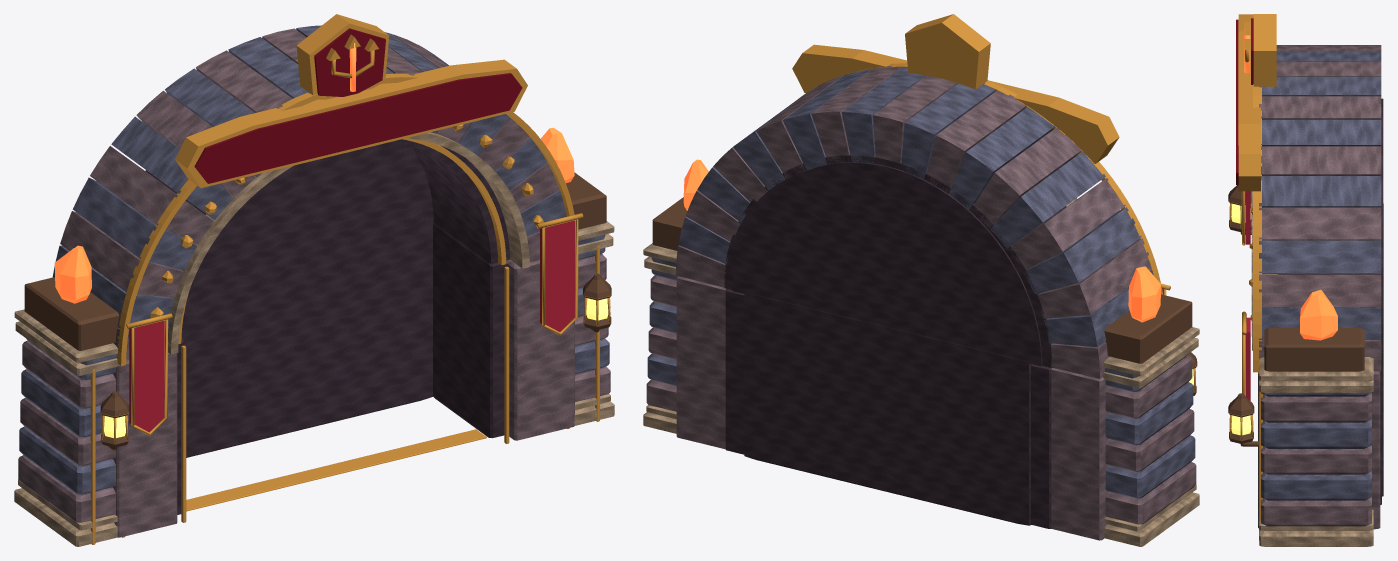
File: red-devils-gateway.glb
The picture shows the model from 3 angles, left to right: view 1: azimuth 30°, elevation 25°; view 2: azimuth 150°, elevation 25°; view 3: azimuth 270°, elevation 25°; orthographic projection. The views are drawn at different scales.
Parts seen in each view (by area): view 1: red-devils-gateway · Charred vault, red-devils-gateway · Smoky rose ashlar, red-devils-gateway · Hammered brass, red-devils-gateway · Basalt blue ashlar, red-devils-gateway · Oxblood enamel, red-devils-gateway · Carved sandstone, red-devils-gateway · Patinated bronze, red-devils-gateway · Scarlet standard, red-devils-gateway · Hot ruby inlay, red-devils-gateway · Amber lamp glass; view 2: red-devils-gateway · Charred vault, red-devils-gateway · Smoky rose ashlar, red-devils-gateway · Basalt blue ashlar, red-devils-gateway · Hammered brass, red-devils-gateway · Carved sandstone, red-devils-gateway · Patinated bronze, red-devils-gateway · Hot ruby inlay; view 3: red-devils-gateway · Smoky rose ashlar, red-devils-gateway · Basalt blue ashlar, red-devils-gateway · Hammered brass, red-devils-gateway · Carved sandstone, red-devils-gateway · Patinated bronze, red-devils-gateway · Hot ruby inlay, red-devils-gateway · Charred vault, red-devils-gateway · Scarlet standard, red-devils-gateway · Oxblood enamel, red-devils-gateway · Amber lamp glass.
Boxes of the visible parts, x1,y1,x2,y2 form: red-devils-gateway · Charred vault: (145,139,509,514); red-devils-gateway · Smoky rose ashlar: (18,28,610,537); red-devils-gateway · Hammered brass: (90,14,611,544); red-devils-gateway · Basalt blue ashlar: (19,25,609,494); red-devils-gateway · Oxblood enamel: (194,28,522,183); red-devils-gateway · Carved sandstone: (14,132,614,546); red-devils-gateway · Patinated bronze: (24,172,611,449); red-devils-gateway · Scarlet standard: (129,220,574,431); red-devils-gateway · Hot ruby inlay: (54,43,574,303); red-devils-gateway · Amber lamp glass: (104,298,608,437); red-devils-gateway · Charred vault: (724,155,1066,528); red-devils-gateway · Smoky rose ashlar: (646,66,1196,540); red-devils-gateway · Basalt blue ashlar: (647,67,1195,498); red-devils-gateway · Hammered brass: (792,14,1197,391); red-devils-gateway · Carved sandstone: (643,198,1199,546); red-devils-gateway · Patinated bronze: (652,197,1197,395); red-devils-gateway · Hot ruby inlay: (683,159,1160,322); red-devils-gateway · Smoky rose ashlar: (1258,45,1381,529); red-devils-gateway · Basalt blue ashlar: (1259,45,1381,500); red-devils-gateway · Hammered brass: (1228,14,1276,540); red-devils-gateway · Carved sandstone: (1251,191,1373,546); red-devils-gateway · Patinated bronze: (1228,185,1364,446); red-devils-gateway · Hot ruby inlay: (1244,28,1337,340); red-devils-gateway · Charred vault: (1277,98,1383,504); red-devils-gateway · Scarlet standard: (1245,191,1250,400); red-devils-gateway · Oxblood enamel: (1236,18,1253,184); red-devils-gateway · Amber lamp glass: (1231,203,1251,435).
Bounding box in the file's own units: 11.7 × 9.6 × 3.24.
Materials: 10 (4 with a texture image).
